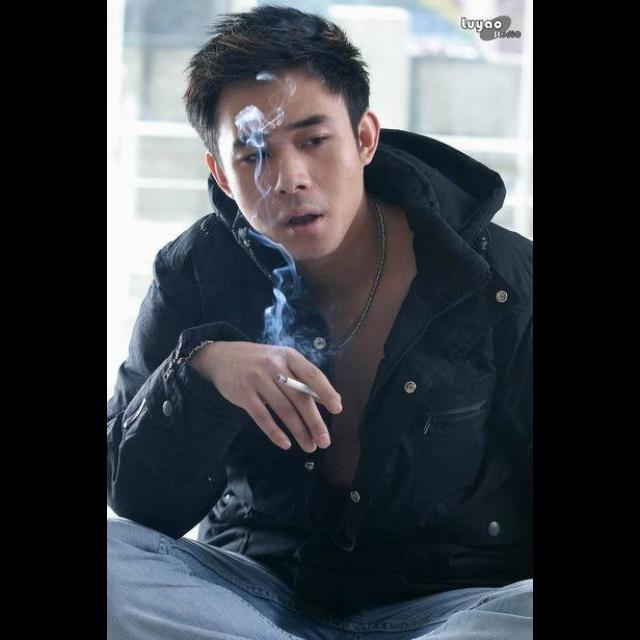rokok: (276, 370, 324, 398)
